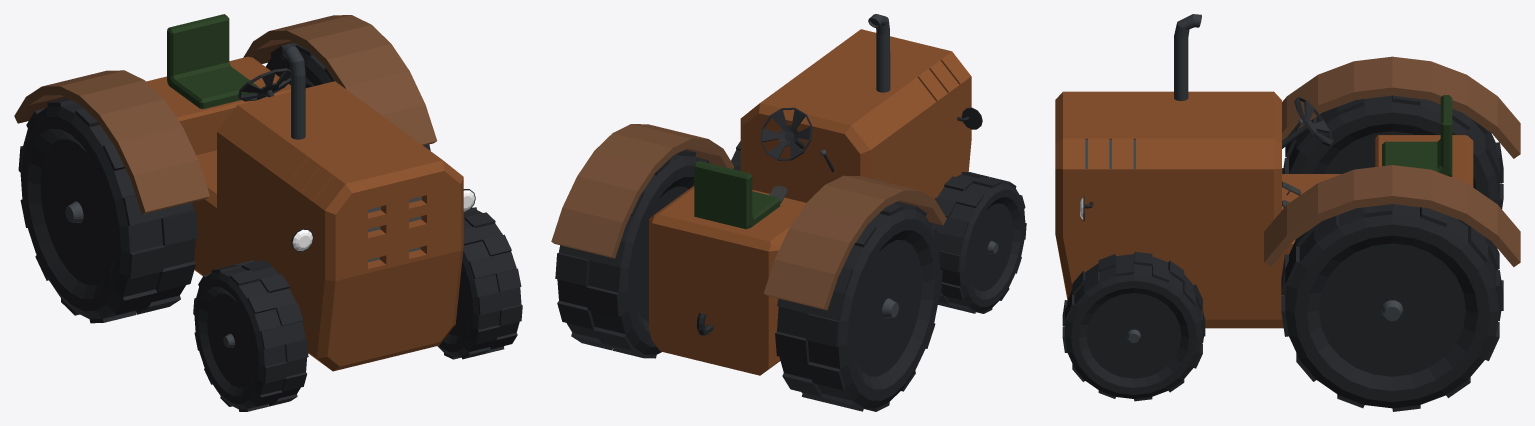
Rendered from TractorOld_1.fbx.
3 renders of one model, left to right at view 1: azimuth 30°, elevation 25°; view 2: azimuth 150°, elevation 25°; view 3: azimuth 270°, elevation 25°, orthographic. The views are drawn at different scales.
Parts seen in each view (by area): view 1: TractorOld_1, TractorOld_1.002, TractorOld_1.001; view 2: TractorOld_1, TractorOld_1.002, TractorOld_1.001; view 3: TractorOld_1, TractorOld_1.002, TractorOld_1.001.
Boxes of the visible parts, box(x1,y1,x2,y2) form: TractorOld_1: box(14, 14, 475, 371); TractorOld_1.002: box(18, 42, 430, 323); TractorOld_1.001: box(193, 207, 522, 411); TractorOld_1: box(551, 14, 982, 375); TractorOld_1.002: box(555, 150, 942, 411); TractorOld_1.001: box(731, 141, 1026, 313); TractorOld_1: box(1055, 14, 1520, 328); TractorOld_1.002: box(1281, 95, 1503, 411); TractorOld_1.001: box(1062, 251, 1205, 401).
Bounding box in the file's own units: 240 × 232 × 317.
